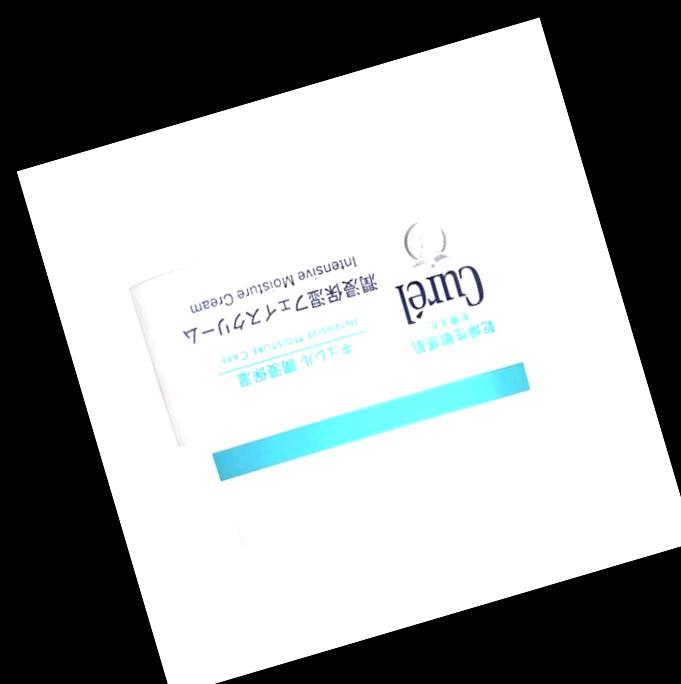cosmetic: (125, 172, 591, 563)
